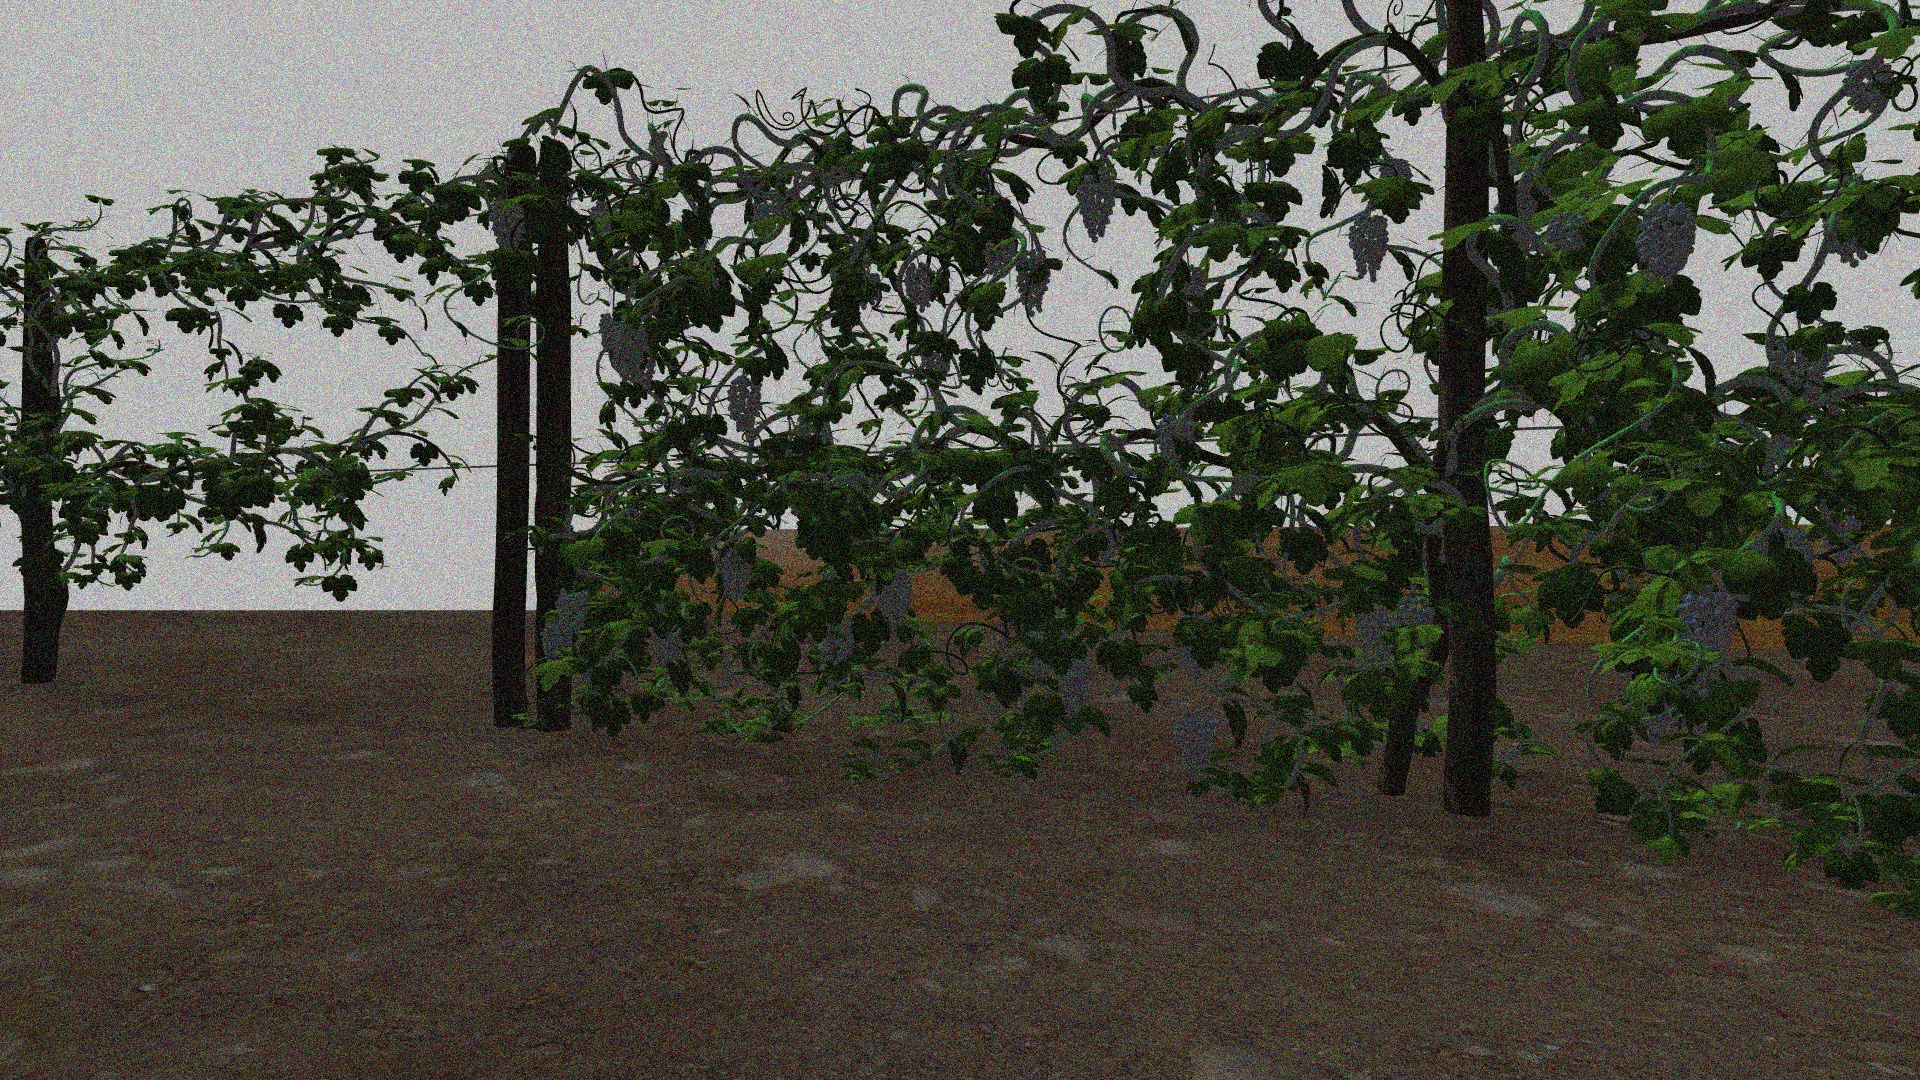grape: (1677, 587, 1739, 698), (1636, 203, 1697, 286), (1842, 58, 1895, 113), (1075, 171, 1116, 243), (1349, 214, 1390, 284), (1354, 608, 1396, 674), (1175, 709, 1218, 771), (1015, 251, 1052, 316), (1056, 655, 1093, 720), (880, 571, 913, 636), (611, 320, 645, 381), (1155, 413, 1195, 464), (727, 375, 761, 433), (489, 198, 526, 251), (720, 549, 754, 603), (1772, 338, 1807, 388), (1547, 211, 1589, 249), (1395, 592, 1435, 632), (905, 262, 935, 311), (556, 589, 587, 630), (653, 632, 684, 669), (985, 237, 1015, 276), (541, 625, 574, 658), (820, 634, 852, 665)
